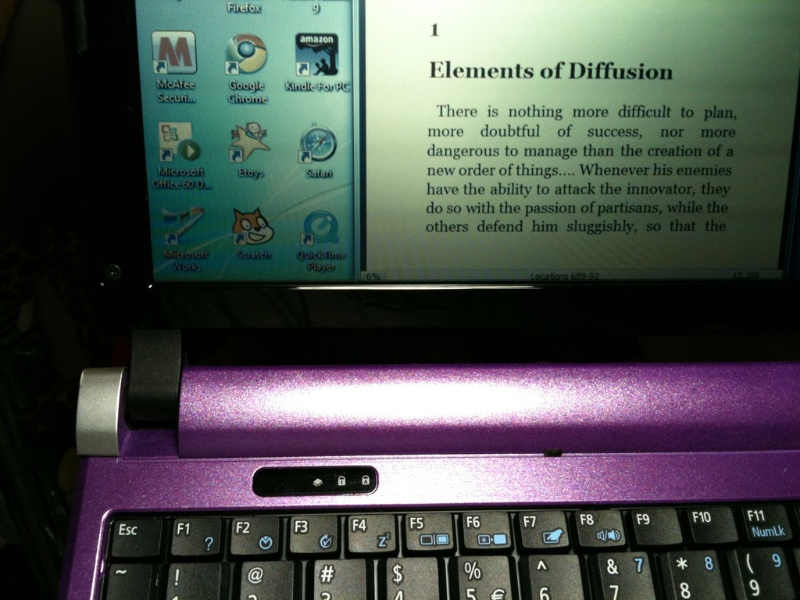laptop: (2, 3, 796, 600)
